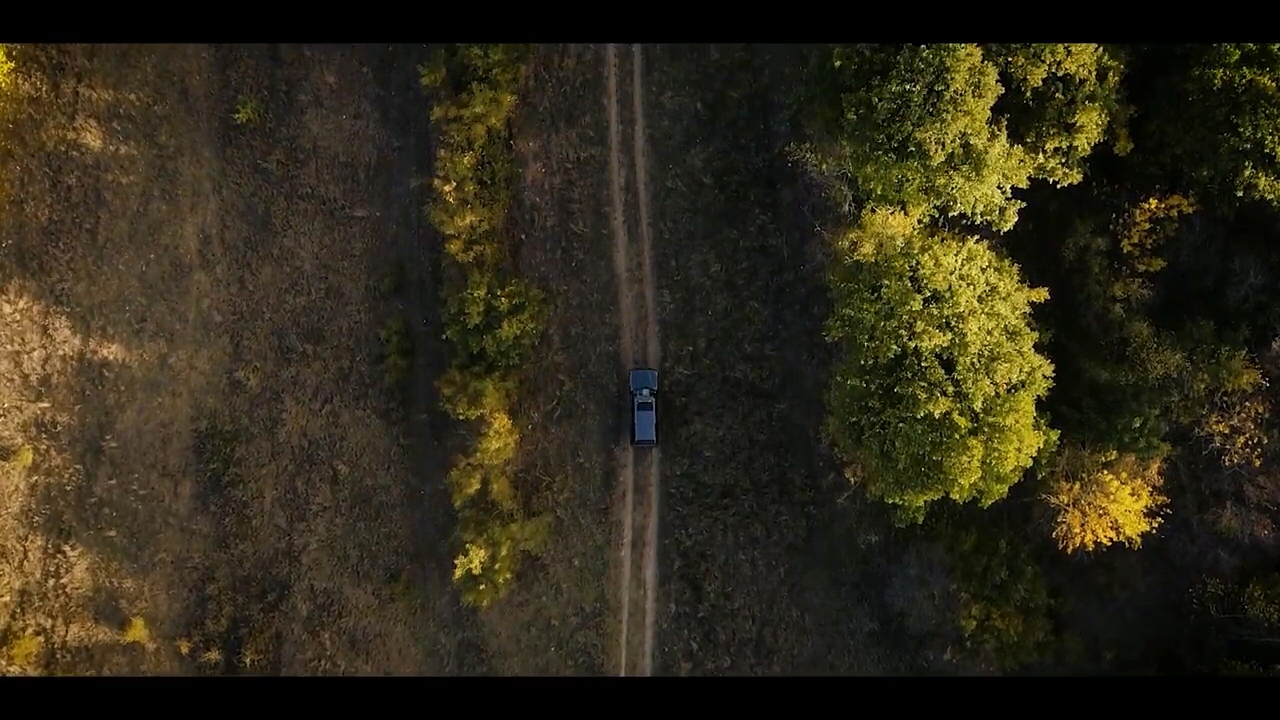araba: (625, 364, 663, 447)
